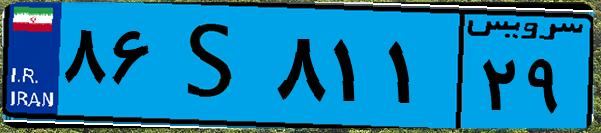1: (385, 28, 445, 110), (330, 28, 385, 110)
2: (475, 38, 525, 113)
6: (110, 28, 158, 98)
8: (270, 28, 330, 110), (57, 26, 110, 100)
9: (525, 38, 570, 115)
S: (158, 12, 270, 120)
